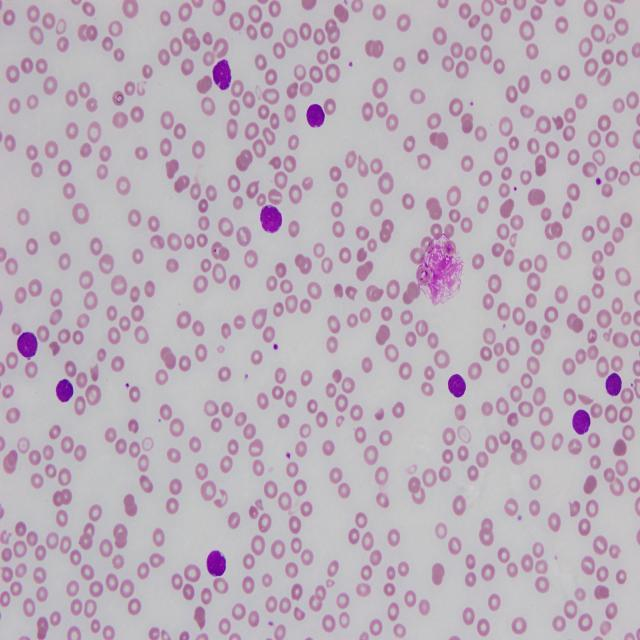cell: (260, 205, 282, 233), (212, 60, 231, 90), (206, 550, 226, 577), (18, 332, 38, 358), (306, 103, 325, 127), (572, 410, 590, 435), (56, 378, 74, 402), (448, 375, 466, 398), (605, 373, 621, 397)
